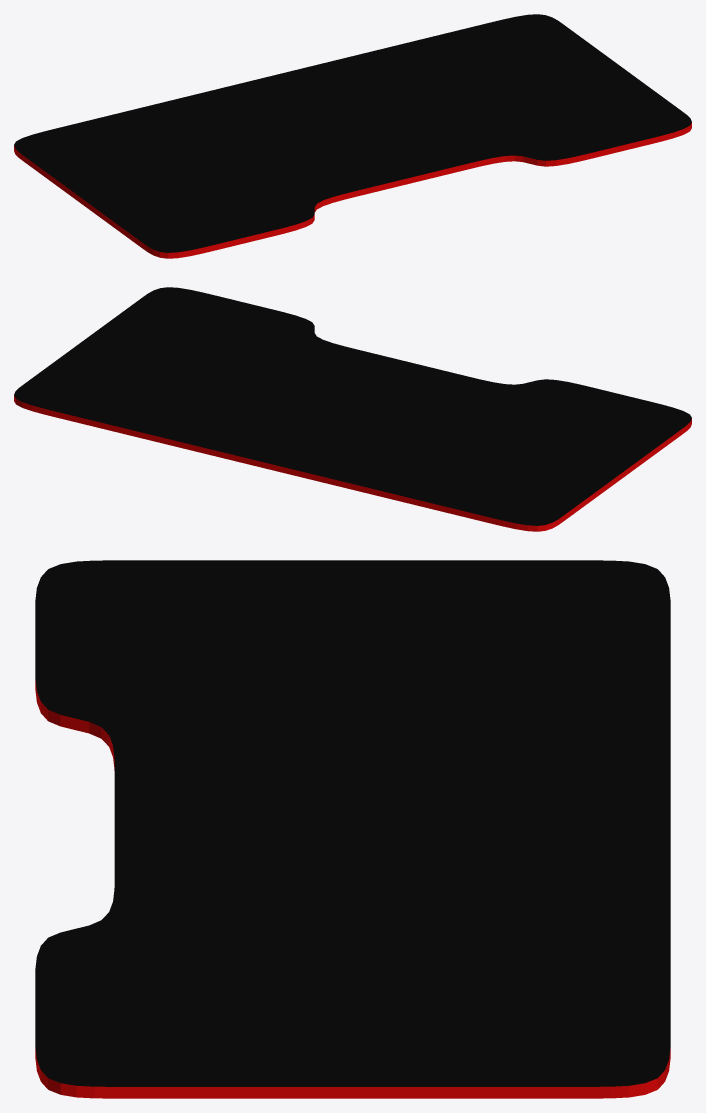
File: Table.fbx
3 views of the same model, one above another, from view 1: azimuth 30°, elevation 25°; view 2: azimuth 150°, elevation 25°; view 3: azimuth 270°, elevation 25° (orthographic). The views are drawn at different scales.
Visible parts, largest first — view 1: Plane; view 2: Plane; view 3: Plane.
Part boxes in pixels (left/top/right/bottom): Plane: left=14, top=14, right=691, bottom=258; Plane: left=14, top=287, right=691, bottom=531; Plane: left=35, top=560, right=670, bottom=1098.
Size of the model in its own units: 4.83 by 0.05 by 2.46.
